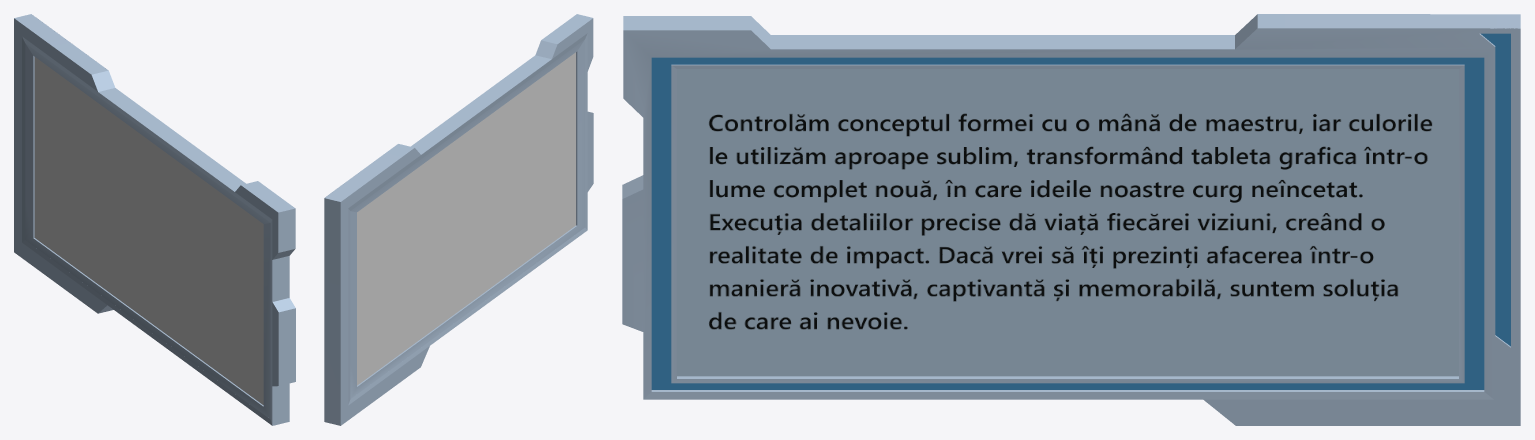
Rendered from Disketa-mica-2.glb.
3 views of the same model, side by side, from view 1: azimuth 30°, elevation 25°; view 2: azimuth 150°, elevation 25°; view 3: azimuth 270°, elevation 25° (orthographic). The views are drawn at different scales.
Visible parts, largest first — view 1: spate, rama exterioara; view 2: spate, rama exterioara; view 3: view, rama exterioara, rama interioara, rama dreapta.
Boxes of the visible parts, box(x1,y1,x2,y2) form: spate: box(34, 57, 263, 404); rama exterioara: box(14, 14, 295, 425); spate: box(357, 52, 575, 385); rama exterioara: box(324, 14, 593, 425); view: box(677, 69, 1458, 376); rama exterioara: box(622, 14, 1520, 425); rama interioara: box(651, 57, 1484, 389); rama dreapta: box(1481, 33, 1510, 346).
Size of the model in its own units: 0.1833 by 2.38 by 4.87.
4 materials, 1 textured.
